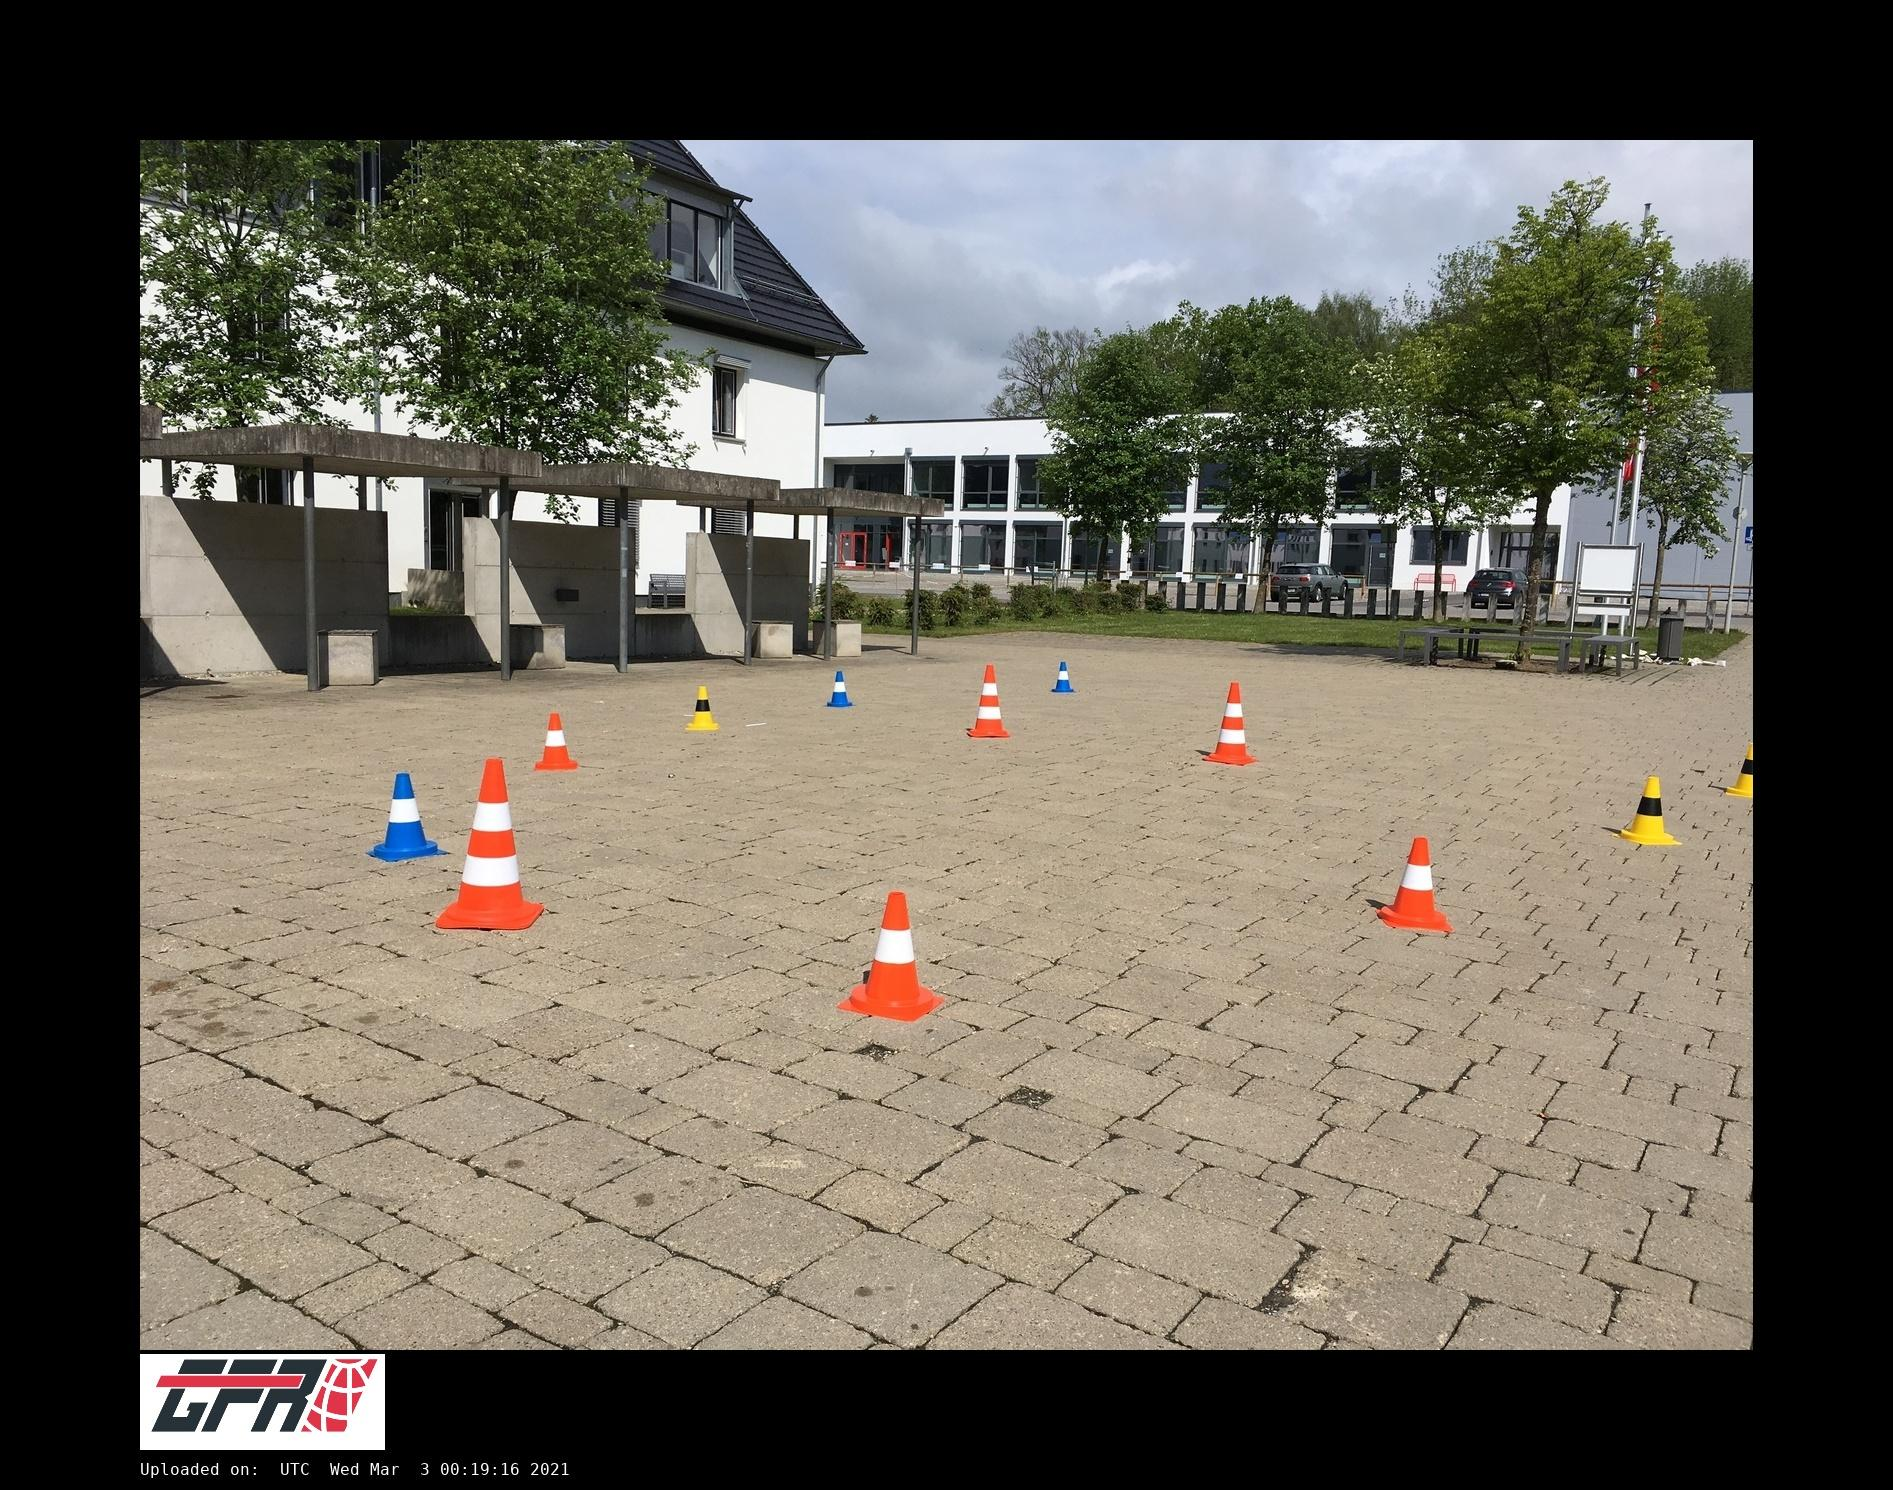blue_cone: (365, 773, 446, 862), (823, 669, 856, 708), (1051, 661, 1076, 693)
large_orange_cone: (436, 759, 544, 929), (1202, 682, 1256, 765), (967, 664, 1010, 738)
orange_cone: (840, 892, 944, 1022), (1374, 836, 1454, 933), (534, 713, 577, 770)
yellow_cone: (1613, 776, 1682, 845), (686, 686, 719, 730), (1727, 743, 1753, 798)
